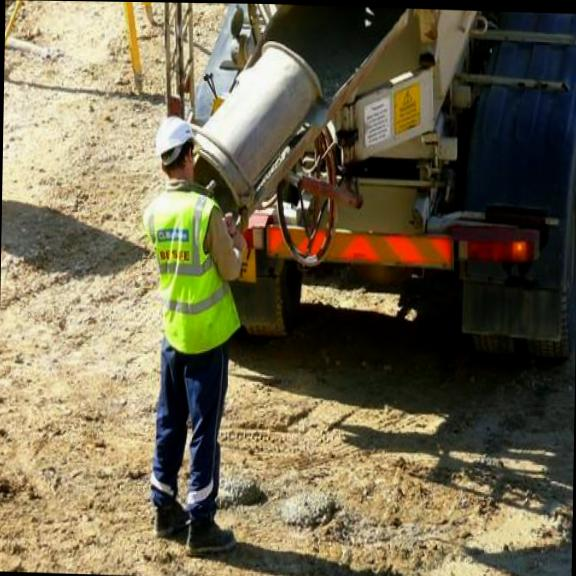safety_vest: (139, 178, 244, 354)
